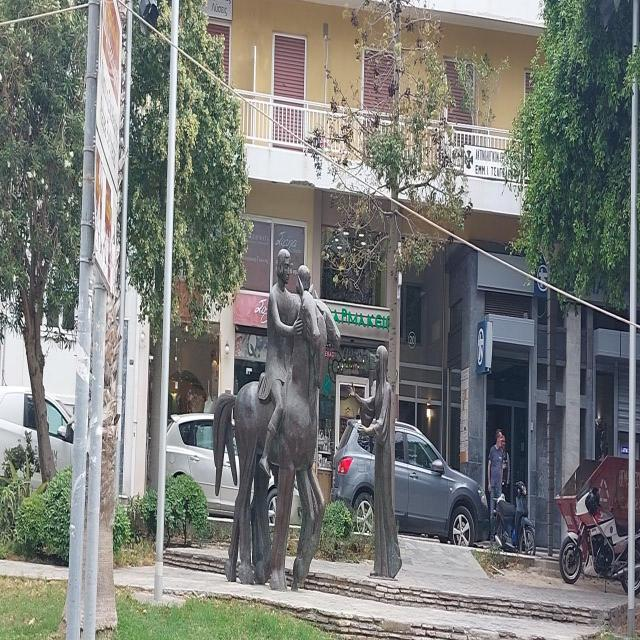Aretousa: (213, 249, 404, 594)
